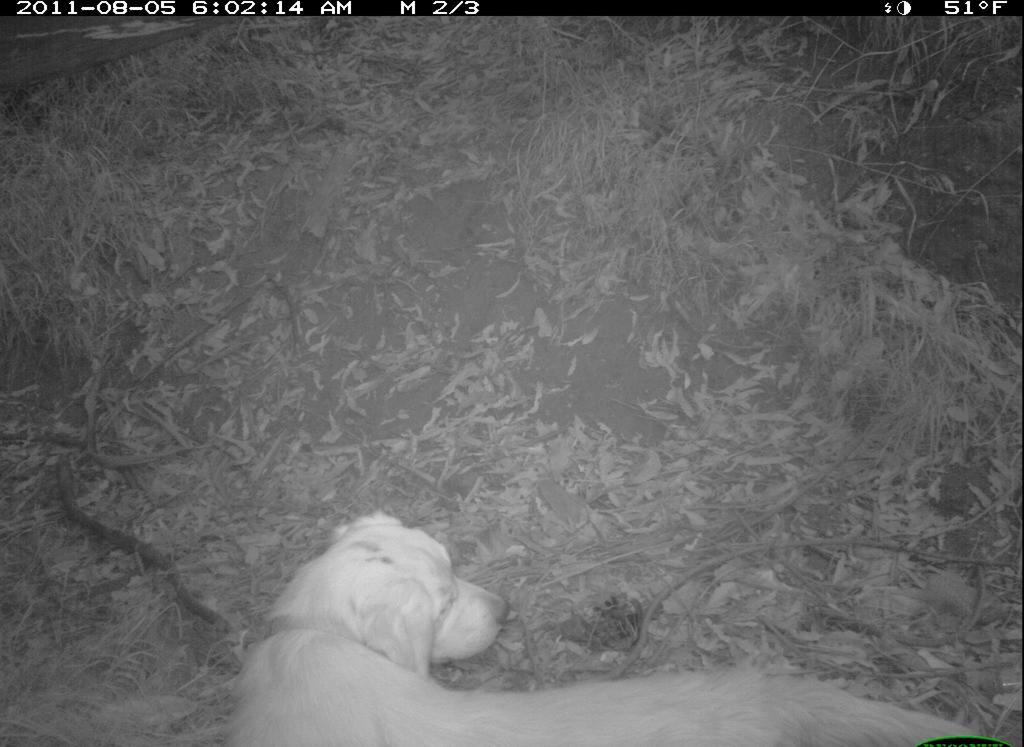dog: (226, 498, 985, 747)
